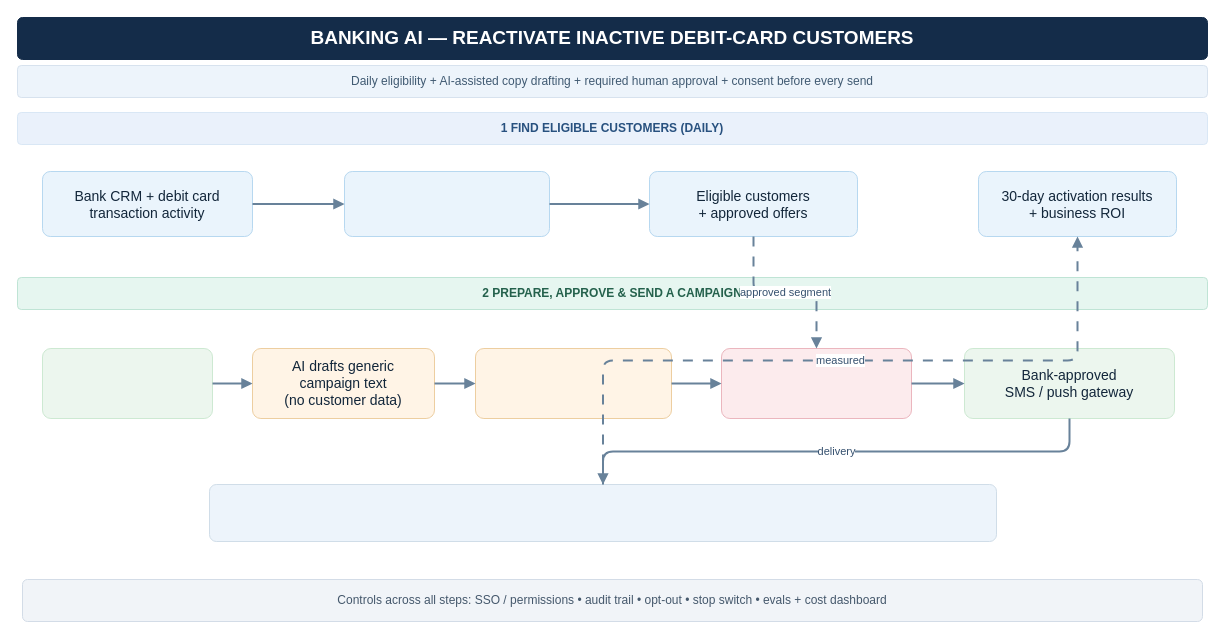
Some shapes in this 1225 by 639 pixel diagram are drawn without their labels. The shapes that lost their labels are listed below. From the top down, each one's box as (x1, y1, x2, y2) in pixels, then its label:
(344, 170, 550, 236): Daily inactivity check (SQL / batch)
(42, 348, 212, 418): Marketing manager
(474, 348, 672, 418): Human approval (marketing / compliance)
(720, 348, 912, 418): FINAL GATE consent + eligibility + no duplicate
(208, 484, 996, 542): Customer: gets an approved offer, or no message if the checks fail
